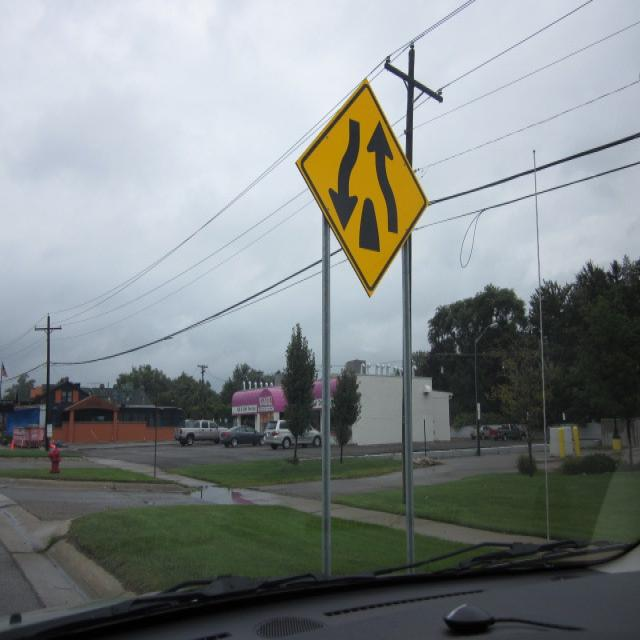warning: (296, 78, 428, 296)
